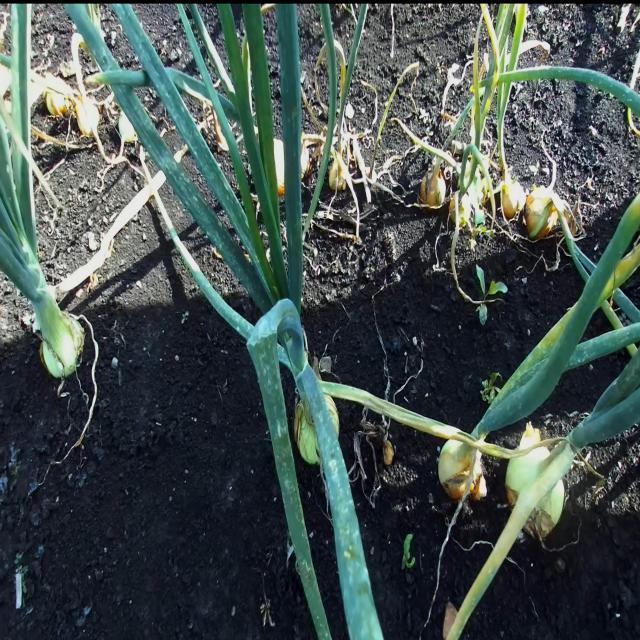onion: (505, 444, 565, 541), (294, 391, 340, 467), (438, 434, 486, 503), (525, 189, 557, 241), (419, 165, 446, 208)
